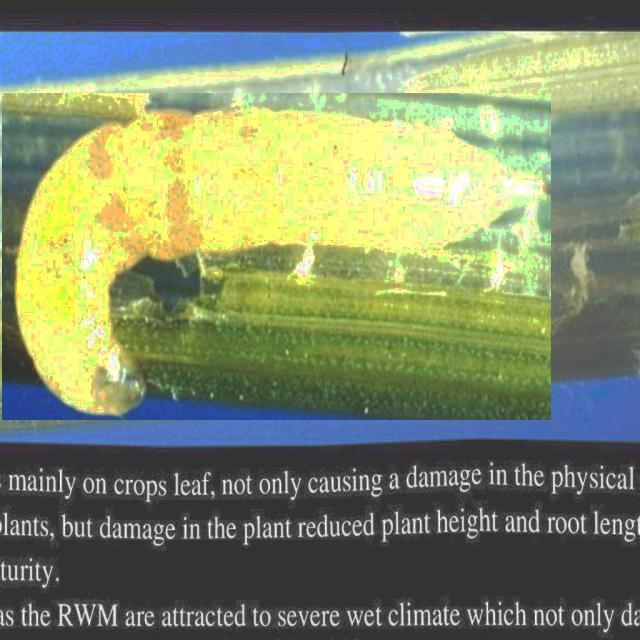whorl-maggot: (2, 93, 551, 420)
